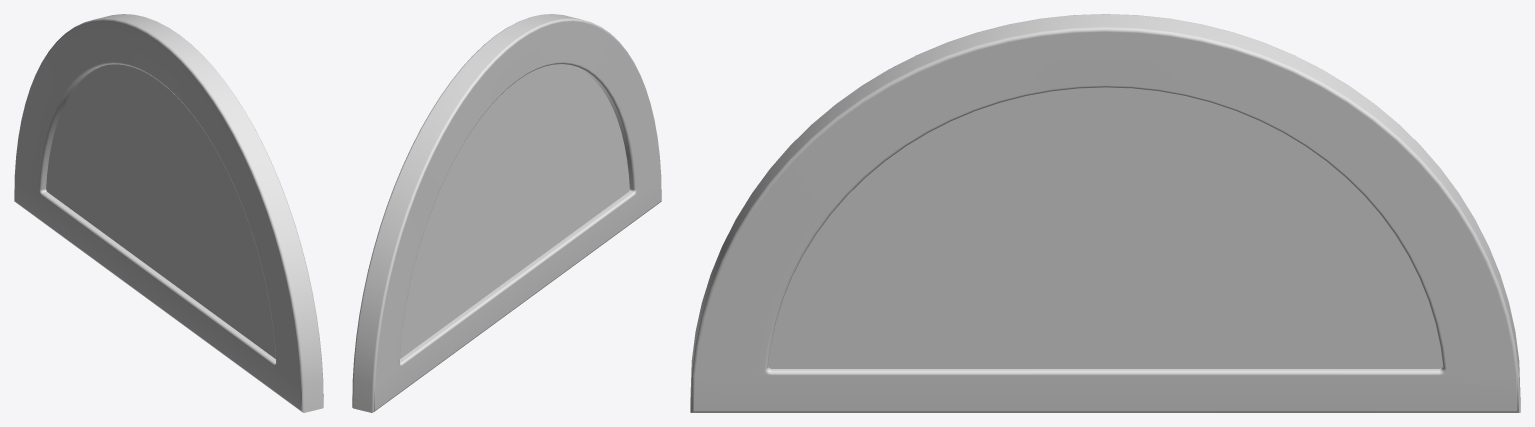
The model's file is SM_Arc_SasDoor_A_V3.fbx.
The picture shows the model from 3 angles, left to right: view 1: azimuth 30°, elevation 25°; view 2: azimuth 150°, elevation 25°; view 3: azimuth 270°, elevation 25°; orthographic projection. The views are drawn at different scales.
Parts seen in each view (by area): view 1: Purple_Part, Glass; view 2: Purple_Part, Glass; view 3: Glass, Purple_Part.
Part boxes in pixels (x1=…): Purple_Part: x1=14, y1=14, x2=323, y2=412; Glass: x1=46, y1=64, x2=275, y2=358; Purple_Part: x1=352, y1=14, x2=661, y2=412; Glass: x1=400, y1=64, x2=629, y2=358; Glass: x1=768, y1=87, x2=1442, y2=368; Purple_Part: x1=690, y1=14, x2=1520, y2=412.
Bounding box in the file's own units: 43.4 × 494 × 963.
Materials: 2 (1 with a texture image).
